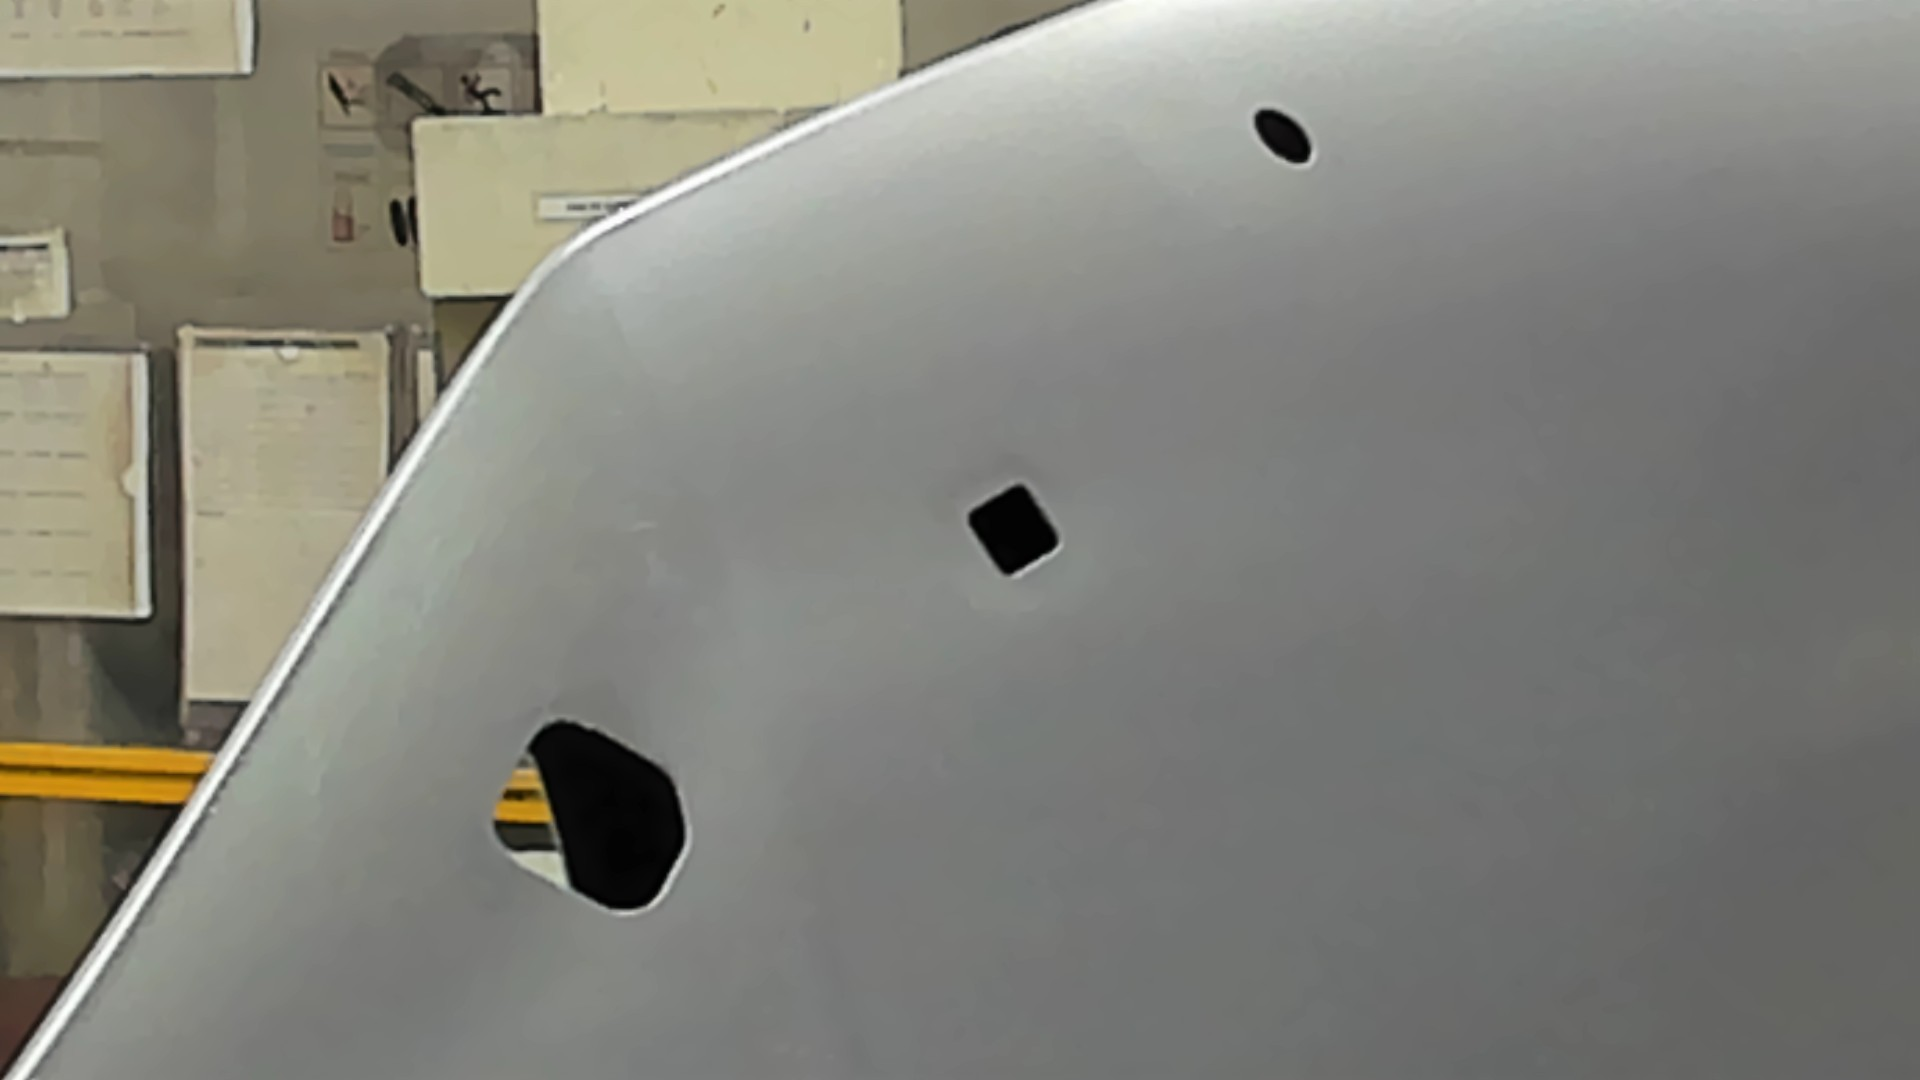chico: (1250, 103, 1320, 169)
grande: (487, 713, 698, 922)
mediano: (963, 477, 1063, 582)
